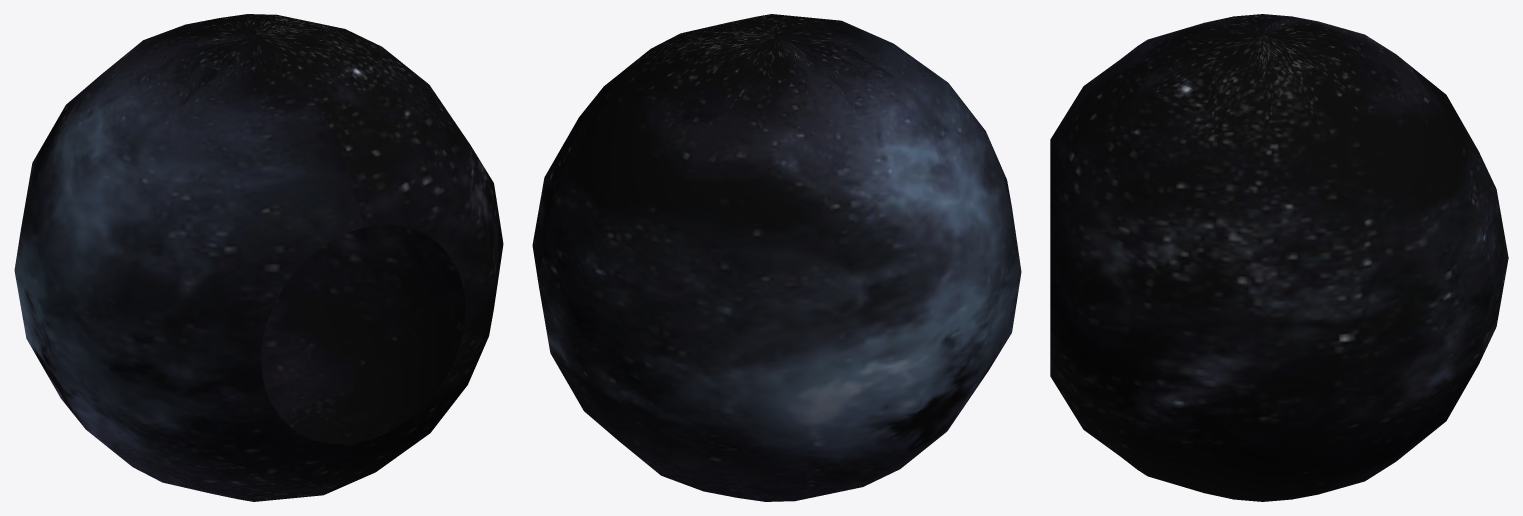
Rendered from PortalGalaxy.fbx.
3 views of the same model, side by side, from view 1: azimuth 30°, elevation 25°; view 2: azimuth 150°, elevation 25°; view 3: azimuth 270°, elevation 25° (orthographic).
Visible parts, largest first — view 1: InsidePortal_SkySphere; view 2: InsidePortal_SkySphere; view 3: InsidePortal_SkySphere.
Part boxes in pixels (box(x1,y1,x2,y2)): InsidePortal_SkySphere: box(14, 14, 503, 501); InsidePortal_SkySphere: box(532, 14, 1021, 501); InsidePortal_SkySphere: box(1050, 14, 1508, 501).
Size of the model in its own units: 11.25 by 11.25 by 10.49.
